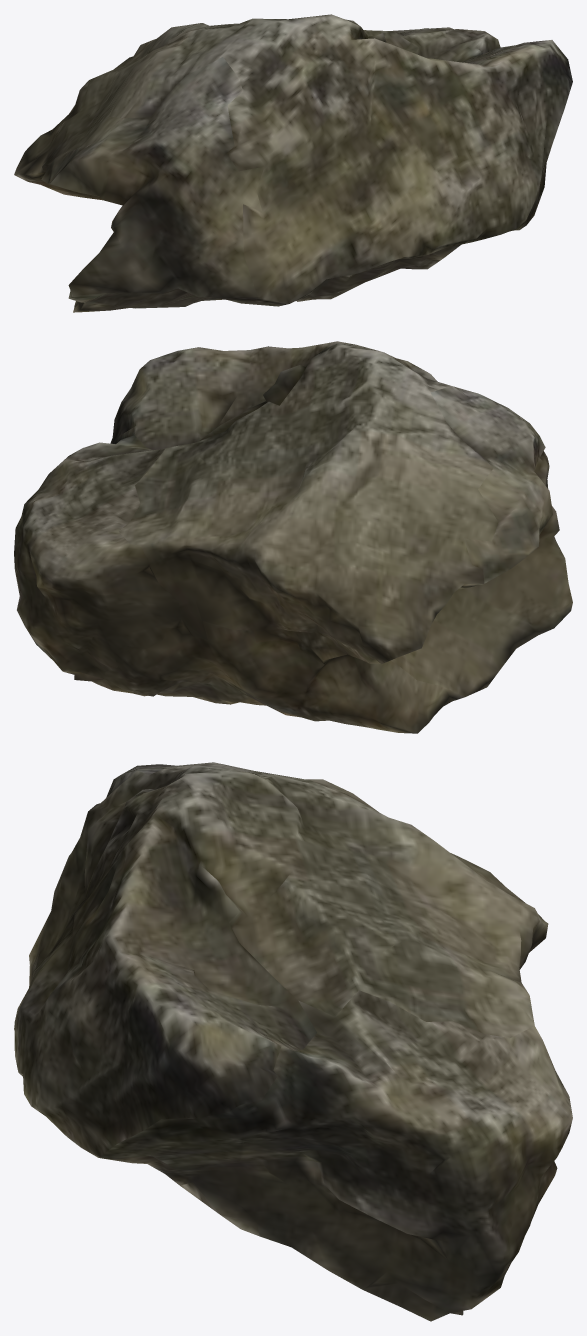
The model's file is SM_RockMoss_B05.gltf.
The picture shows the model from 3 angles, top to bottom: view 1: azimuth 30°, elevation 25°; view 2: azimuth 150°, elevation 25°; view 3: azimuth 270°, elevation 25°; orthographic projection. The views are drawn at different scales.
Parts seen in each view (by area): view 1: SM_RockMoss_B05; view 2: SM_RockMoss_B05; view 3: SM_RockMoss_B05.
Boxes of the visible parts, box(x1,y1,x2,y2) form: SM_RockMoss_B05: box(14, 14, 572, 312); SM_RockMoss_B05: box(14, 341, 572, 733); SM_RockMoss_B05: box(14, 762, 572, 1321).
Size of the model in its own units: 1.95 by 1.3 by 1.53.
1 material, 1 textured.
